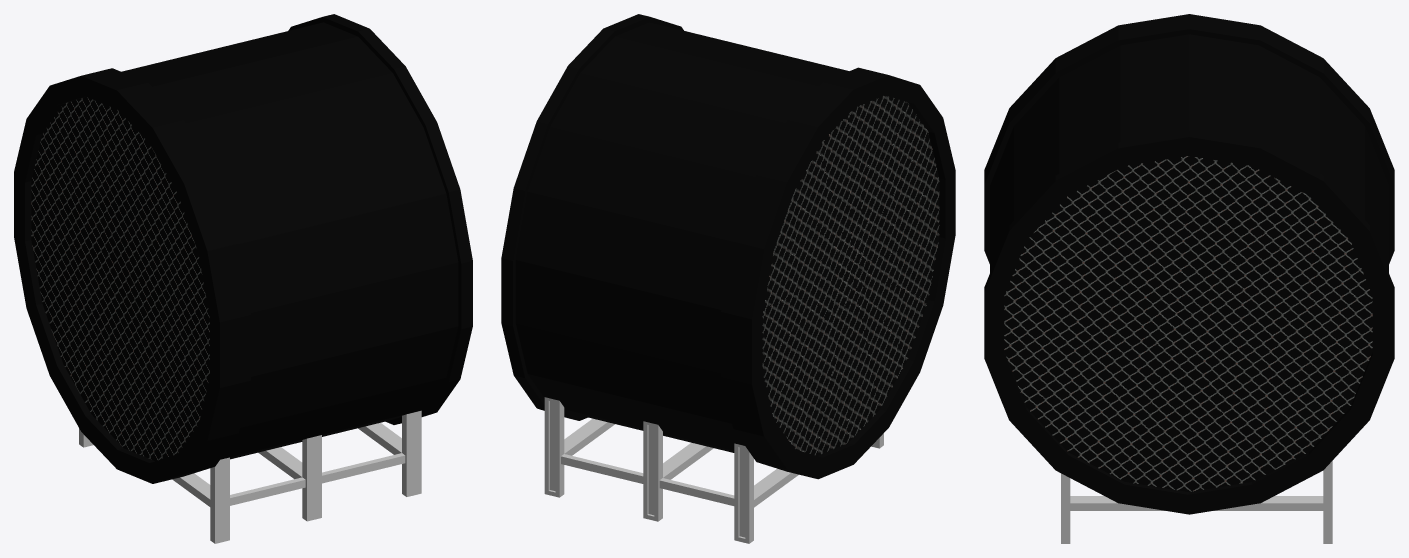
The model's file is Metro Fan.FBX.
The picture shows the model from 3 angles, left to right: view 1: azimuth 30°, elevation 25°; view 2: azimuth 150°, elevation 25°; view 3: azimuth 270°, elevation 25°; orthographic projection.
Visible parts, largest first — view 1: Object344; view 2: Object344; view 3: Object344.
Part boxes in pixels (x1,y1,x2,y2): Object344: (14, 14, 472, 543); Object344: (501, 14, 955, 543); Object344: (984, 14, 1394, 543).
Size of the model in its own units: 62.91 by 98.51 by 88.66.
